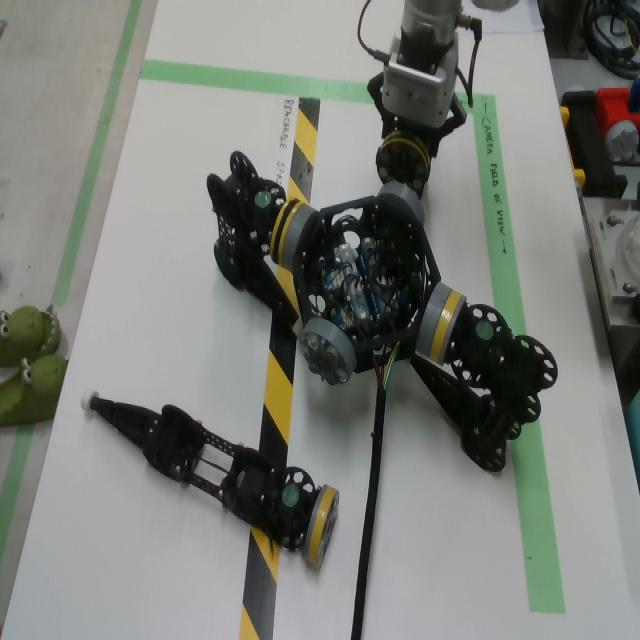body: (293, 196, 441, 375)
body_connector: (300, 317, 357, 387), (416, 283, 451, 356), (282, 204, 318, 273), (377, 180, 425, 225)
gripper: (366, 72, 467, 159)
leg: (80, 384, 340, 565), (405, 291, 558, 474), (206, 151, 303, 336), (375, 116, 436, 199)
leg_connector: (376, 131, 431, 199), (303, 484, 340, 565), (270, 199, 302, 265)
leg_marker: (281, 484, 299, 507), (476, 321, 493, 340), (255, 191, 271, 207)
